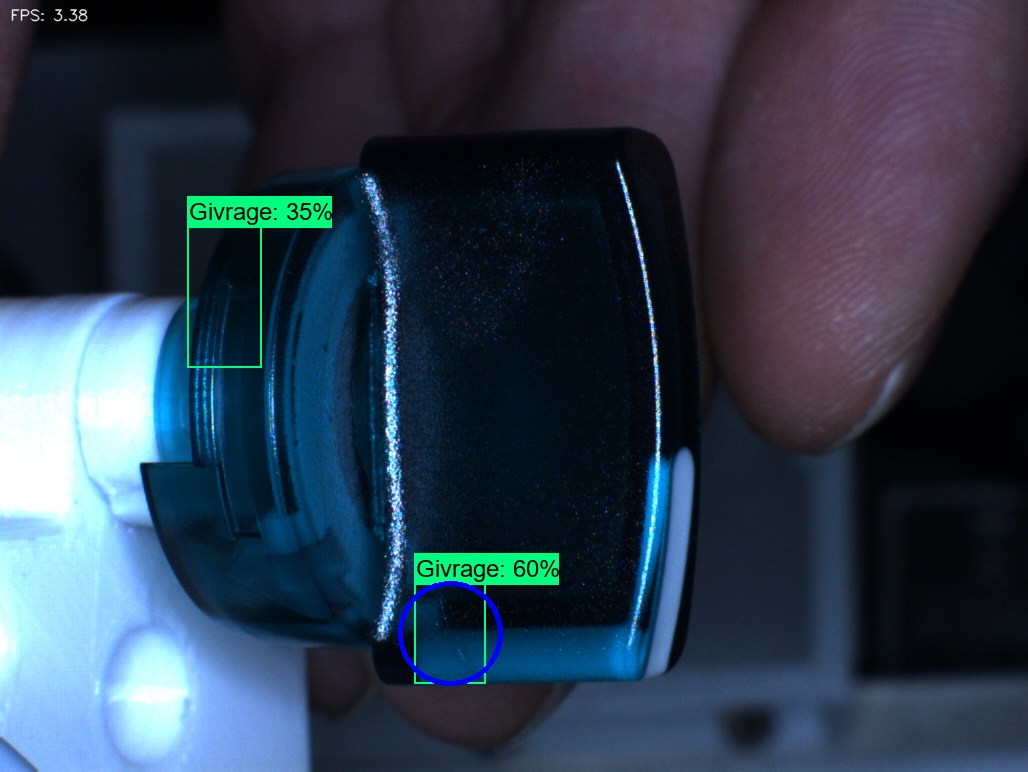PointNoir: (290, 307, 366, 386)
